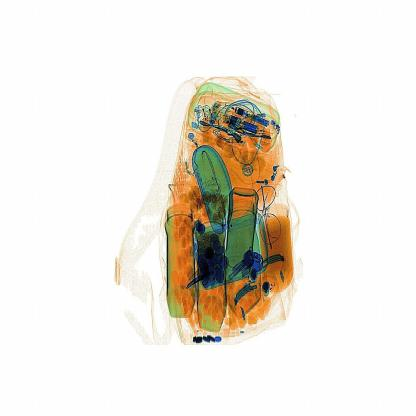pliers: (182, 264, 219, 291)
